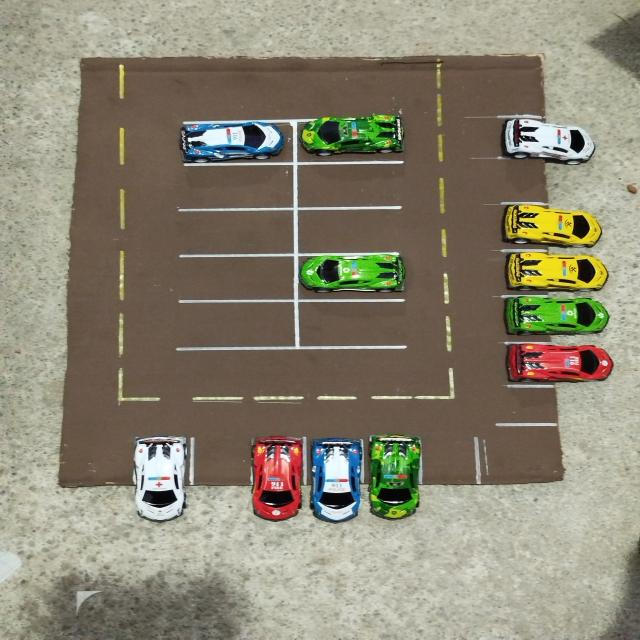libre: (170, 298, 294, 348), (60, 434, 130, 522), (294, 298, 411, 349), (174, 208, 293, 258), (172, 256, 296, 299), (173, 165, 293, 209), (295, 163, 405, 209), (498, 160, 613, 204), (496, 385, 614, 427), (422, 432, 479, 512), (297, 208, 405, 250), (192, 437, 242, 527)
no_estacionarse: (480, 428, 573, 492)
ocupado: (130, 434, 194, 527), (298, 253, 419, 301), (171, 120, 298, 165), (299, 117, 411, 165), (499, 294, 612, 341), (248, 430, 307, 520), (367, 431, 421, 527), (311, 433, 364, 528), (502, 341, 616, 385), (499, 203, 609, 248), (499, 115, 598, 163), (500, 254, 610, 294)
